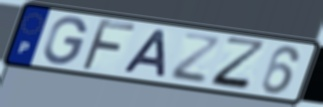6: (259, 44, 303, 96)
A: (121, 28, 169, 80)
F: (78, 17, 137, 73)
G: (42, 15, 89, 66)
Z: (207, 35, 269, 93), (167, 30, 224, 86)
